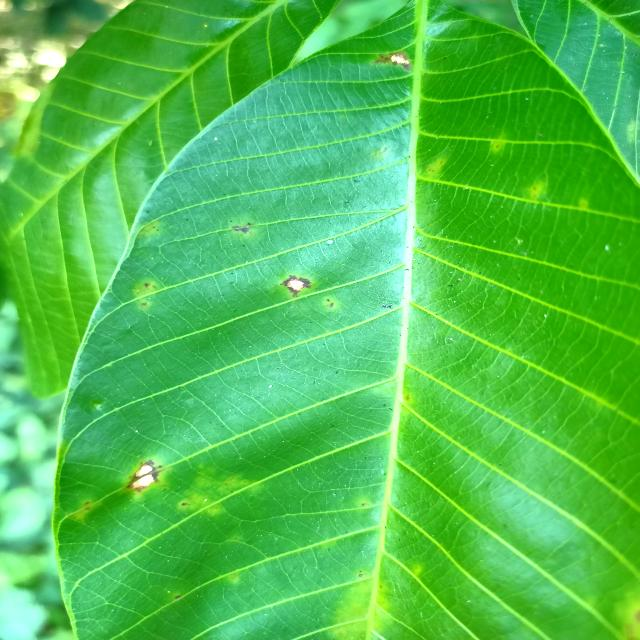Leaf-Blight: (132, 475, 154, 487), (135, 464, 153, 476), (289, 279, 304, 290)
